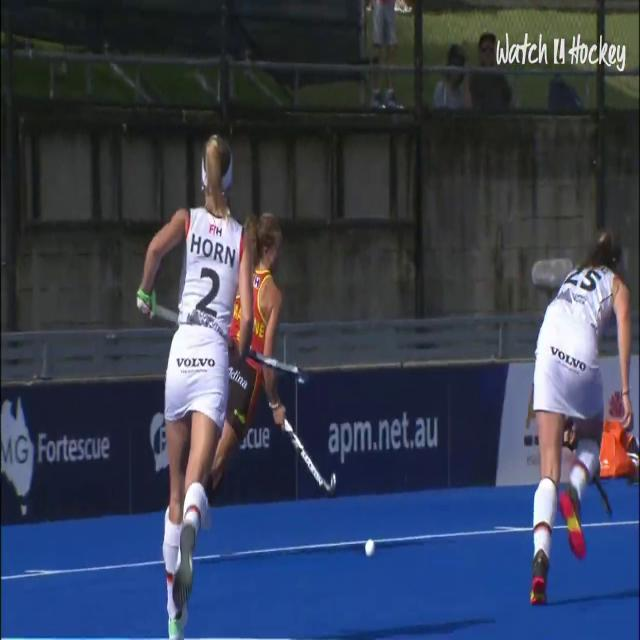ball: (361, 531, 381, 570)
